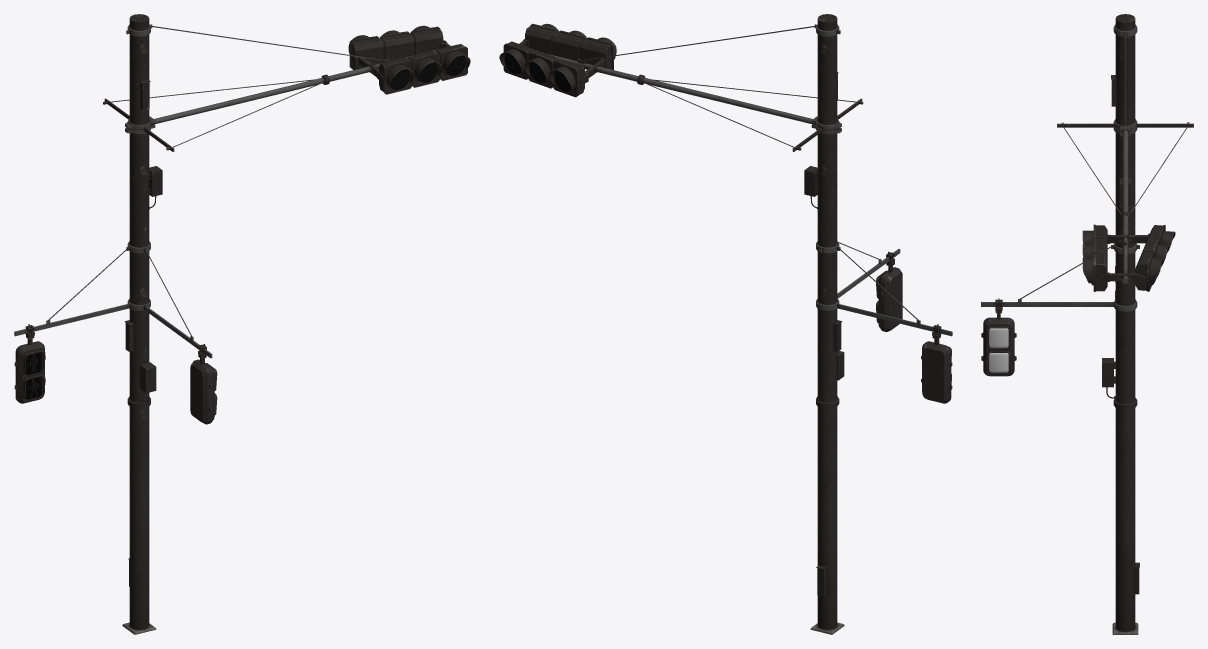
File: jctTrafficLightB.fbx
3 views of the same model, side by side, from view 1: azimuth 30°, elevation 25°; view 2: azimuth 150°, elevation 25°; view 3: azimuth 270°, elevation 25° (orthographic).
Parts seen in each view (by area): view 1: jctTrafficLightB; view 2: jctTrafficLightB; view 3: jctTrafficLightB.
Boxes of the visible parts, x1,y1,x2,y2 form: jctTrafficLightB: (14,14,470,634); jctTrafficLightB: (499,14,952,634); jctTrafficLightB: (981,14,1193,634).
Bounding box in the file's own units: 572 × 752 × 237.
